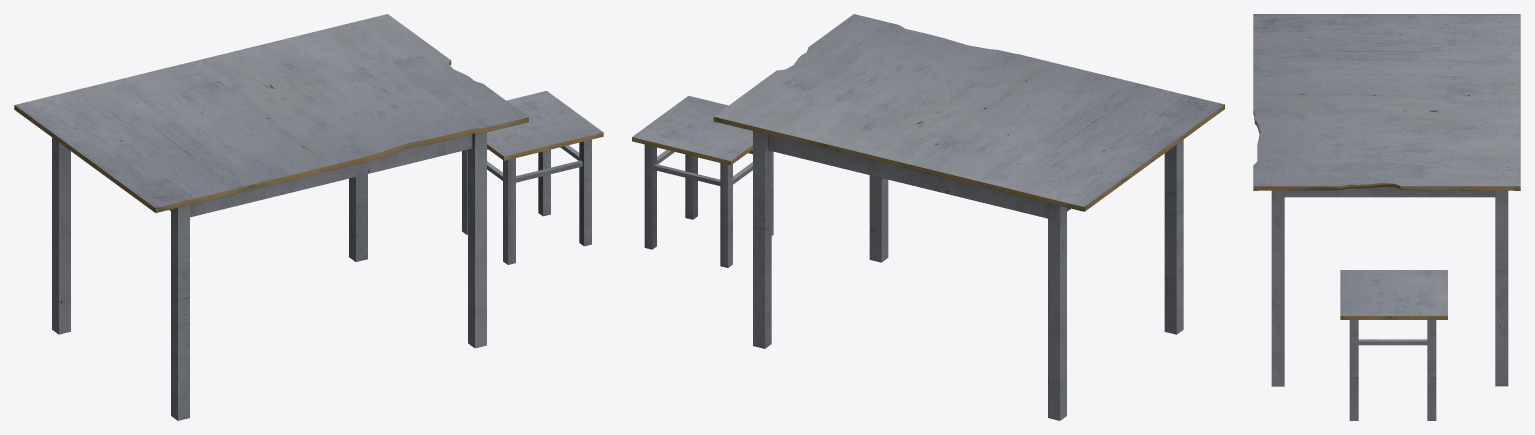
Rendered from table_kuche.FBX.
3 views of the same model, side by side, from view 1: azimuth 30°, elevation 25°; view 2: azimuth 150°, elevation 25°; view 3: azimuth 270°, elevation 25° (orthographic). The views are drawn at different scales.
Visible parts, largest first — view 1: table_kuche, chair_kuche; view 2: table_kuche, chair_kuche; view 3: table_kuche, chair_kuche.
Part boxes in pixels (x1,y1,x2,y2): table_kuche: (14,14,528,420); chair_kuche: (462,91,603,264); table_kuche: (713,14,1224,420); chair_kuche: (632,95,773,267); table_kuche: (1253,14,1520,386); chair_kuche: (1340,270,1447,420).
Size of the model in its own units: 164 by 72.27 by 81.4.
